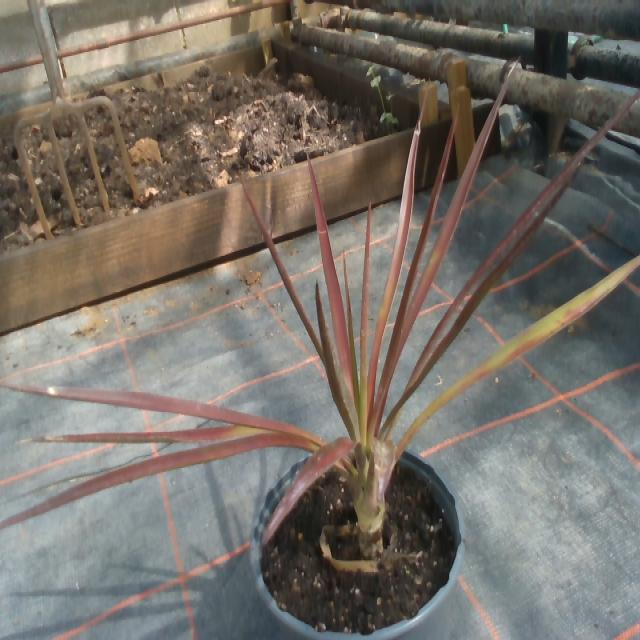Yucca-aloifolia: (405, 89, 639, 389), (398, 127, 605, 407), (374, 71, 511, 425), (398, 257, 639, 455), (0, 432, 308, 528), (0, 383, 320, 443), (241, 179, 323, 363), (369, 120, 419, 395), (395, 132, 452, 334), (309, 161, 352, 395), (264, 437, 354, 543), (316, 285, 354, 435), (34, 427, 277, 443), (359, 203, 370, 443), (345, 260, 357, 405)
